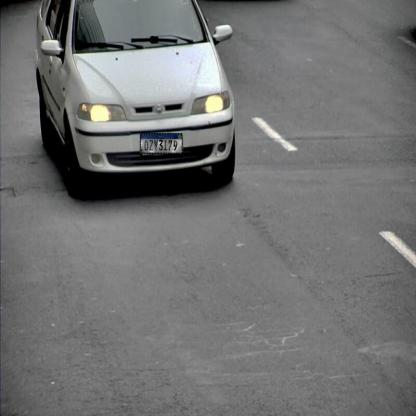PlacaM: (140, 133, 182, 154)
